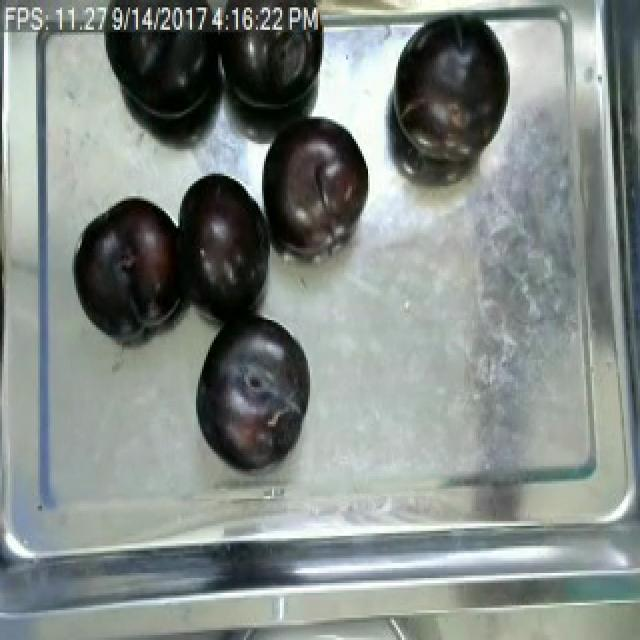Fruit: (384, 12, 512, 172), (252, 107, 380, 266), (192, 320, 312, 476), (70, 193, 186, 340), (172, 164, 274, 325)
